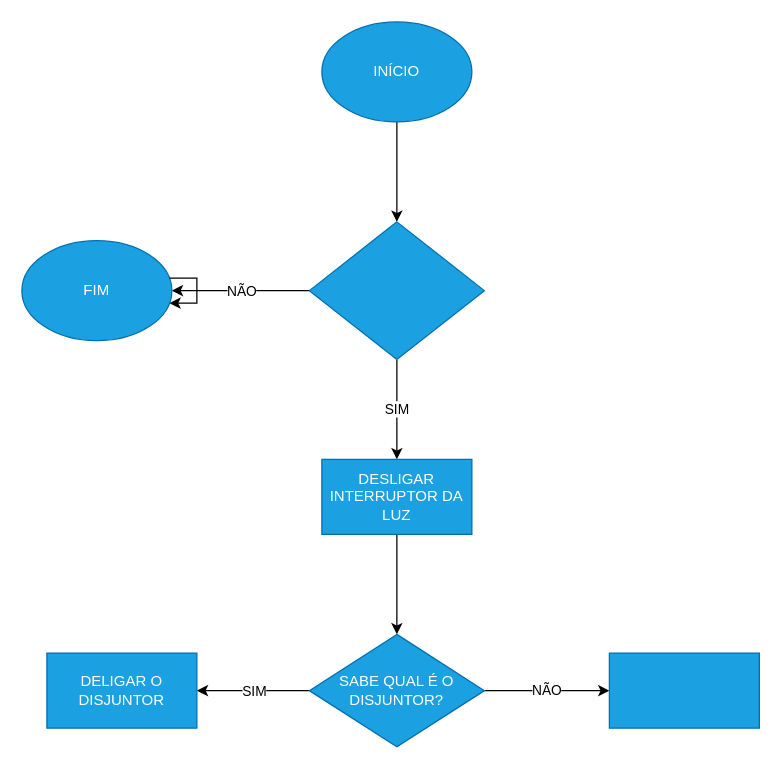
The diagram is 781 pixels wide and 769 high, and some of its shapes have lost their labels. Each missing label, with the box of its shape:
DESLIGAR O DISJUNTOR GERAL: (608, 652, 759, 728)
LÂMPADA ESTÁ QUEIMADA?: (308, 221, 484, 359)
